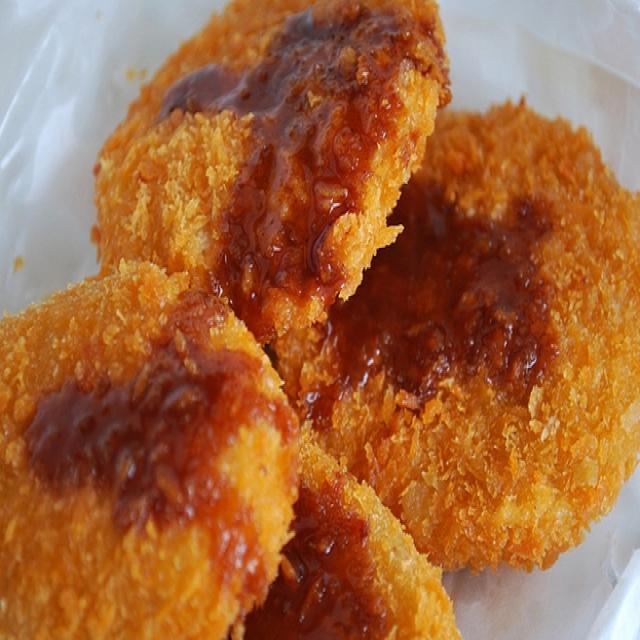炸货点心: (7, 18, 634, 624)
